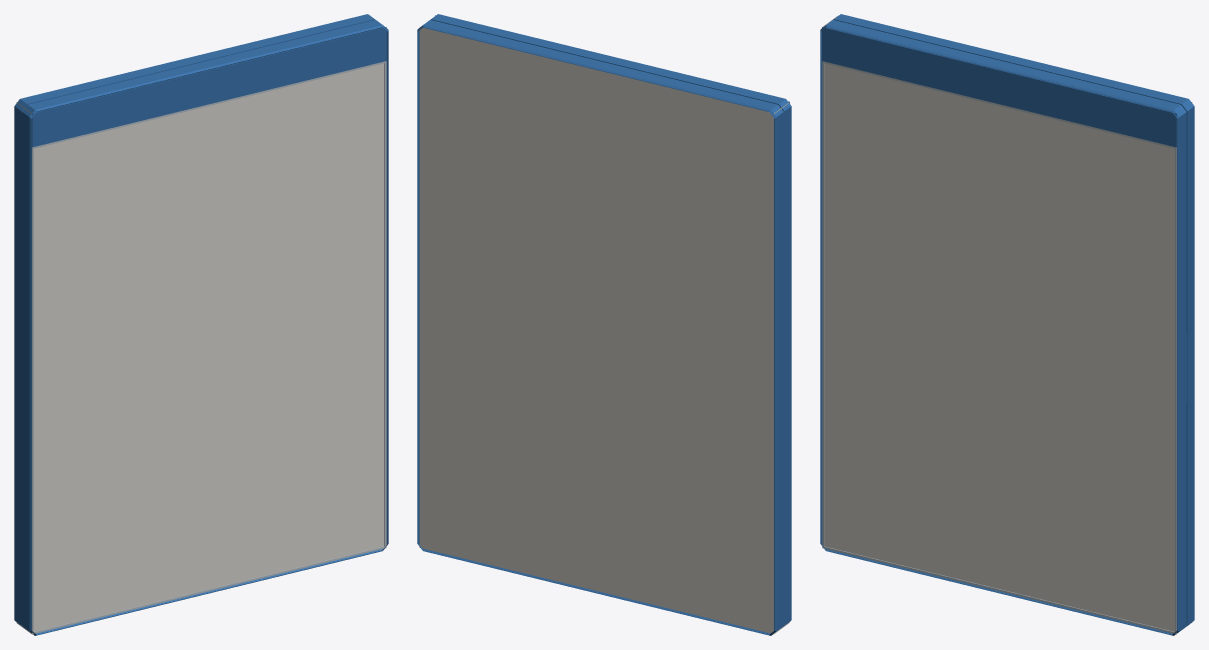
File: packaging-bluray-keepcase-stock.glb
The picture shows the model from 3 angles, left to right: view 1: azimuth 30°, elevation 25°; view 2: azimuth 150°, elevation 25°; view 3: azimuth 330°, elevation 25°; orthographic projection.
Visible parts, largest first — view 1: Front-art-seat, Header-band, Lid-molded-shell, Base-molded-shell, Clear-wrap-lip-right, Hinge-bridge, Clear-wrap-lip-bottom, Clear-wrap-lip-left, Clear-wrap-lip-top; view 2: Back-insert, Base-molded-shell, Lid-molded-shell, Hinge-bridge; view 3: Front-art-seat, Header-band, Lid-molded-shell, Base-molded-shell, Clear-wrap-lip-left, Clear-wrap-lip-bottom, Clear-wrap-lip-right, Clear-wrap-lip-top.
Boxes of the visible parts, <box> form: Front-art-seat: <box>34,63,384,631</box>; Header-band: <box>32,27,386,147</box>; Lid-molded-shell: <box>22,20,388,635</box>; Base-molded-shell: <box>14,14,375,627</box>; Clear-wrap-lip-right: <box>384,63,386,546</box>; Hinge-bridge: <box>21,111,22,624</box>; Clear-wrap-lip-bottom: <box>32,546,386,634</box>; Clear-wrap-lip-left: <box>32,149,33,632</box>; Clear-wrap-lip-top: <box>32,61,386,149</box>; Back-insert: <box>419,27,773,634</box>; Base-molded-shell: <box>417,20,783,635</box>; Lid-molded-shell: <box>430,14,791,627</box>; Hinge-bridge: <box>783,111,784,624</box>; Front-art-seat: <box>824,63,1174,631</box>; Header-band: <box>822,27,1176,147</box>; Lid-molded-shell: <box>820,20,1186,635</box>; Base-molded-shell: <box>833,14,1194,628</box>; Clear-wrap-lip-left: <box>822,63,824,546</box>; Clear-wrap-lip-bottom: <box>822,546,1176,634</box>; Clear-wrap-lip-right: <box>1175,149,1176,631</box>; Clear-wrap-lip-top: <box>822,61,1176,148</box>.
Size of the model in its own units: 0.4448 by 0.6227 by 0.036.
